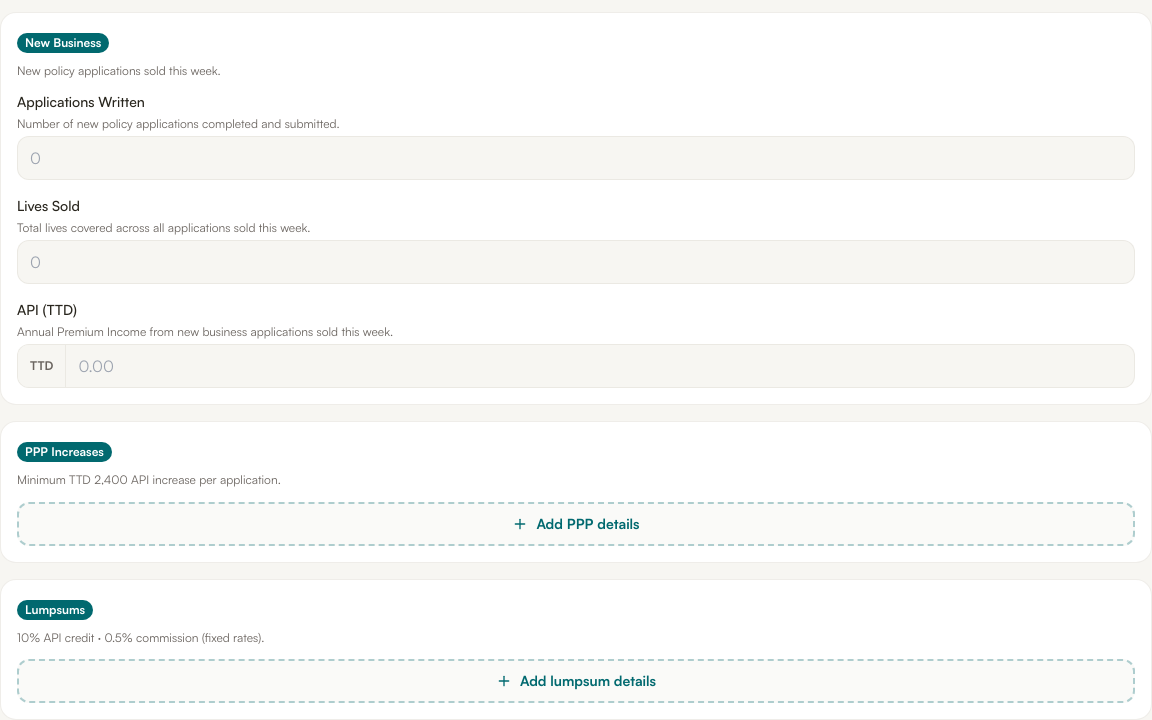
it: StepNewBusiness — PPP + Lumpsum collapse state + writers › PPP starts collapsed when no PPP data; expands on CTA
(page scrolled)
Expected: the field labelled "Number of PPP increases" is not shown
Click the button "Add PPP details" at (576,524), box [17,502,1135,546]
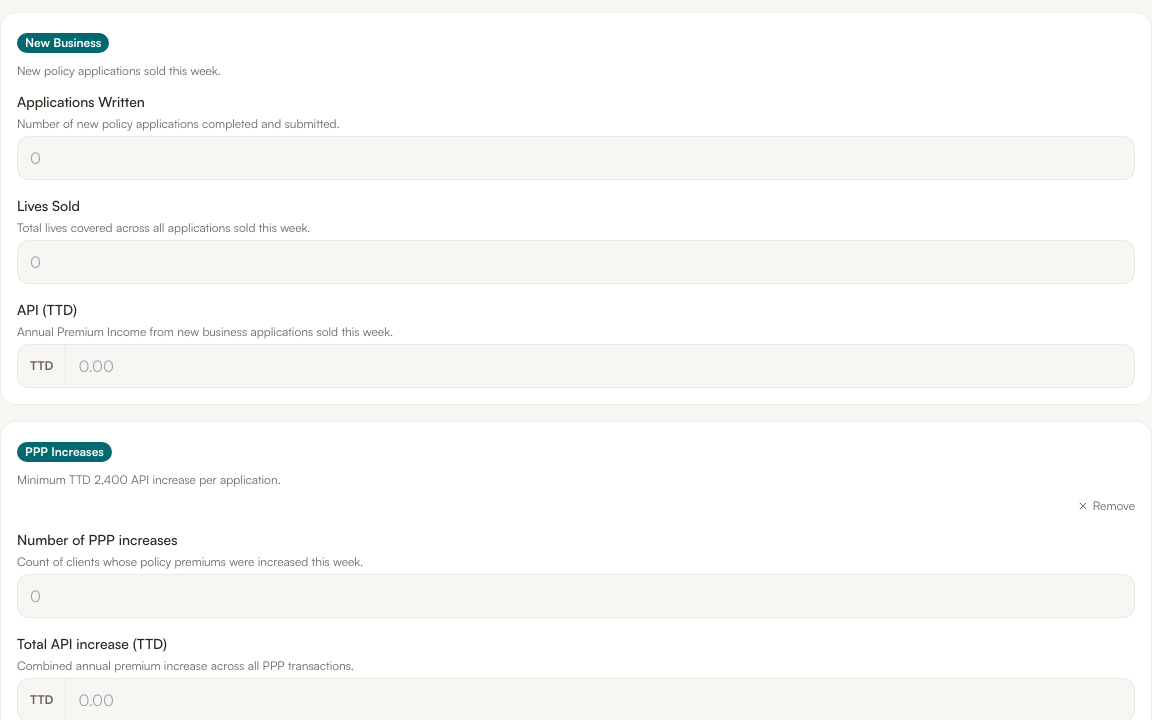
Result: the field labelled "Number of PPP increases" is shown at [17,574,1135,618]
